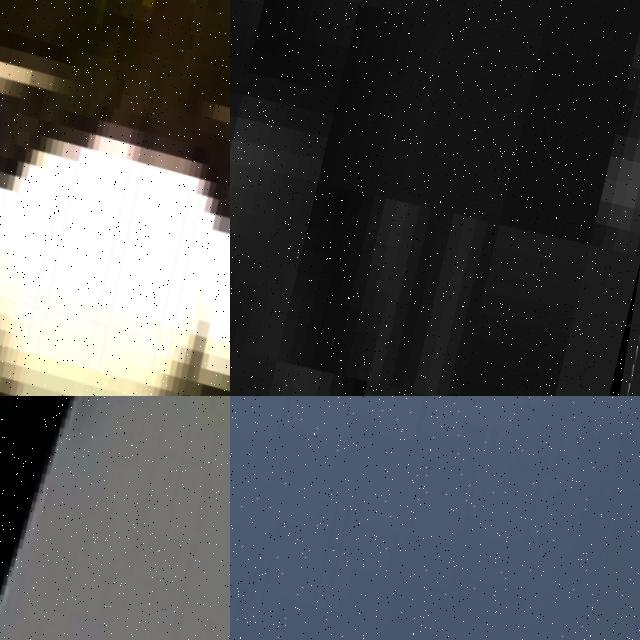drone: (0, 0, 230, 396), (0, 396, 230, 640)
